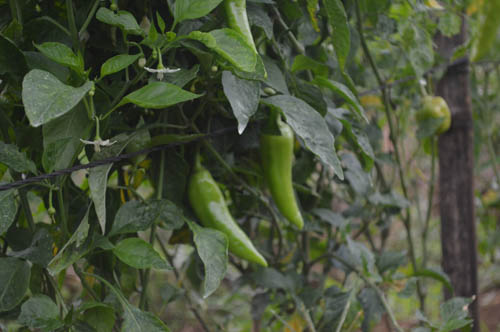ChiliPepper: (191, 174, 270, 269), (263, 126, 305, 225), (228, 7, 259, 56), (417, 95, 450, 133)
